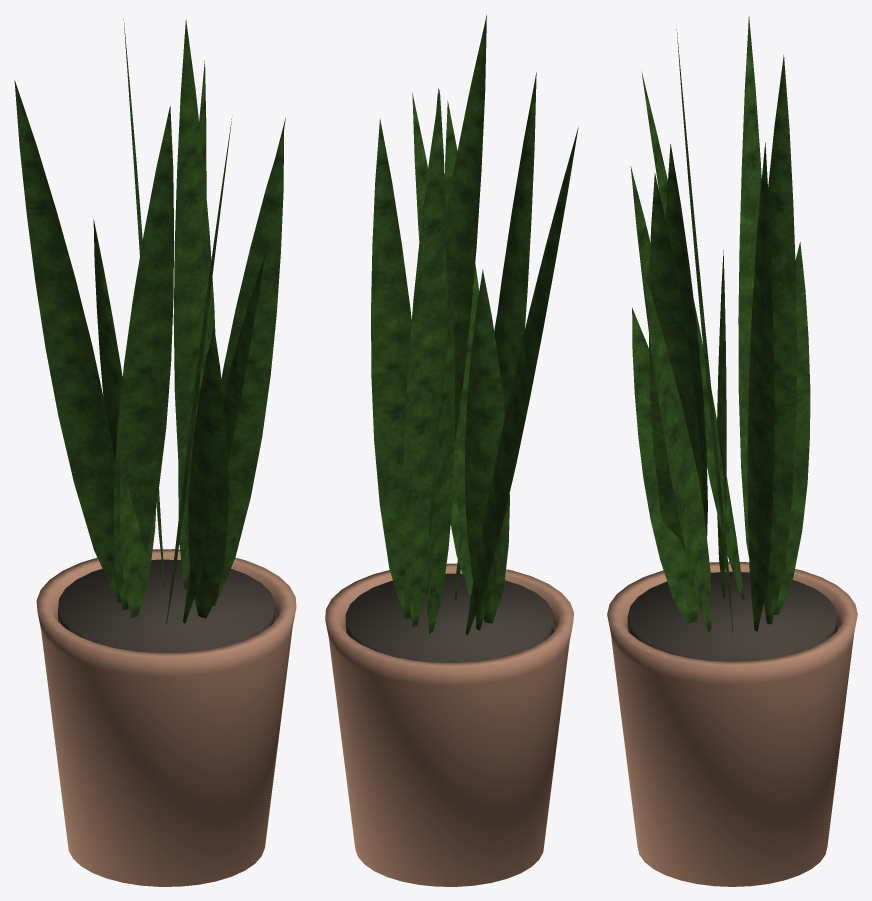
File: kitchen_plant.glb
3 views of the same model, side by side, from view 1: azimuth 30°, elevation 25°; view 2: azimuth 150°, elevation 25°; view 3: azimuth 270°, elevation 25° (orthographic). The views are drawn at different scales.
Visible parts, largest first — view 1: kitchen_plant; view 2: kitchen_plant; view 3: kitchen_plant.
Boxes of the visible parts, left/top/right/bottom form: kitchen_plant: left=14, top=19, right=296, bottom=886; kitchen_plant: left=325, top=14, right=578, bottom=886; kitchen_plant: left=607, top=16, right=857, bottom=886.
Size of the model in its own units: 0.3779 by 1.2 by 0.3327.
Materials: 3 (1 with a texture image).
